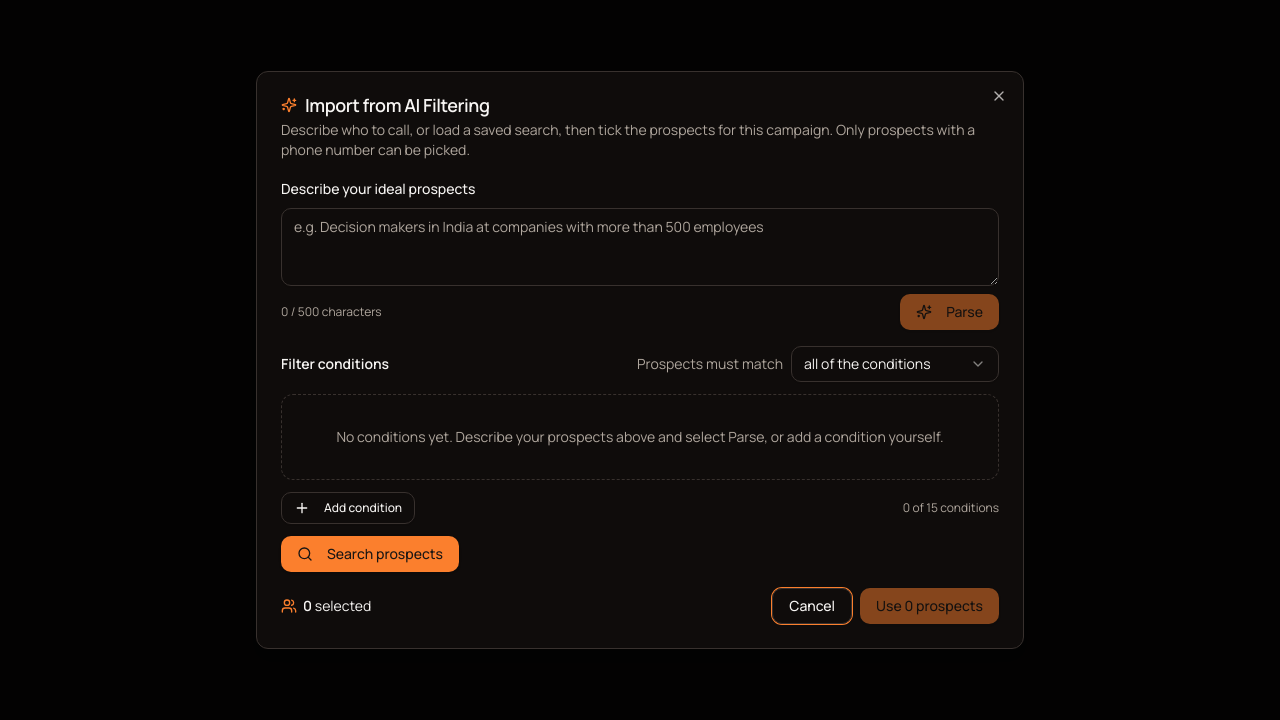
Test: says when development synthetic data is shown
Click the button "Search prospects": (370, 554) [281,536,459,572]
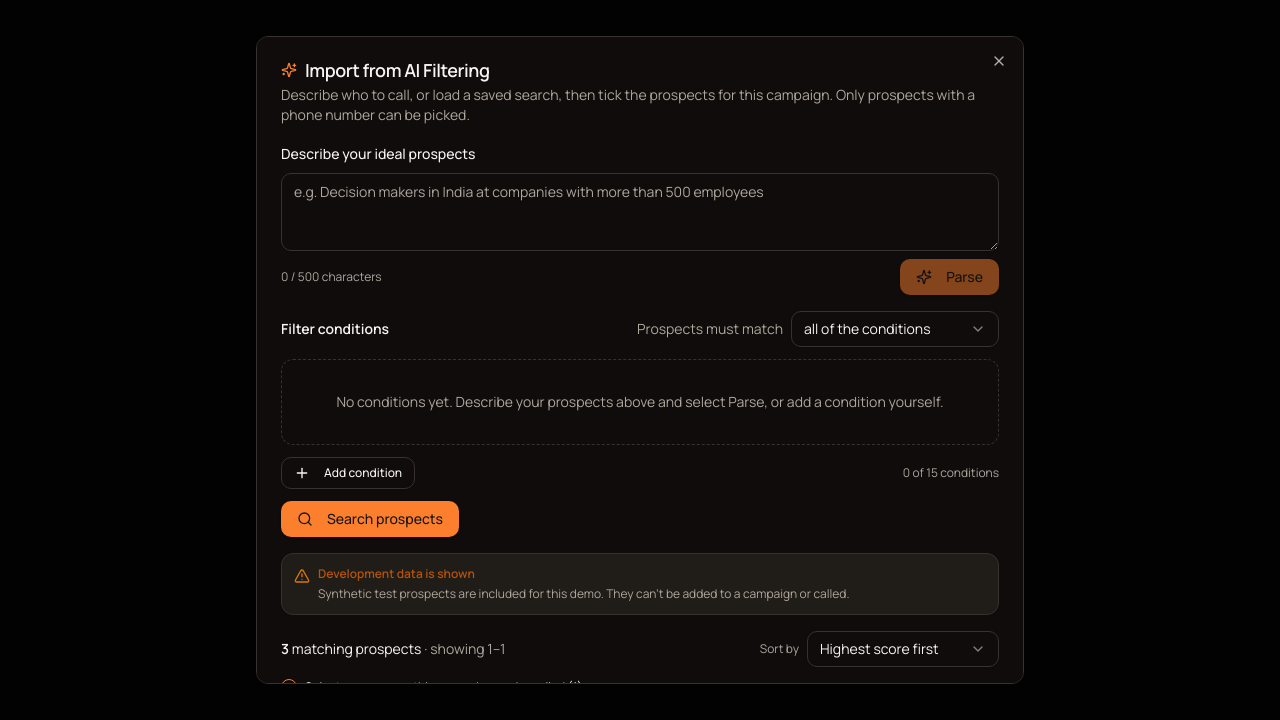
Now the text "Development data is shown" is shown, box [318,565,475,582]
